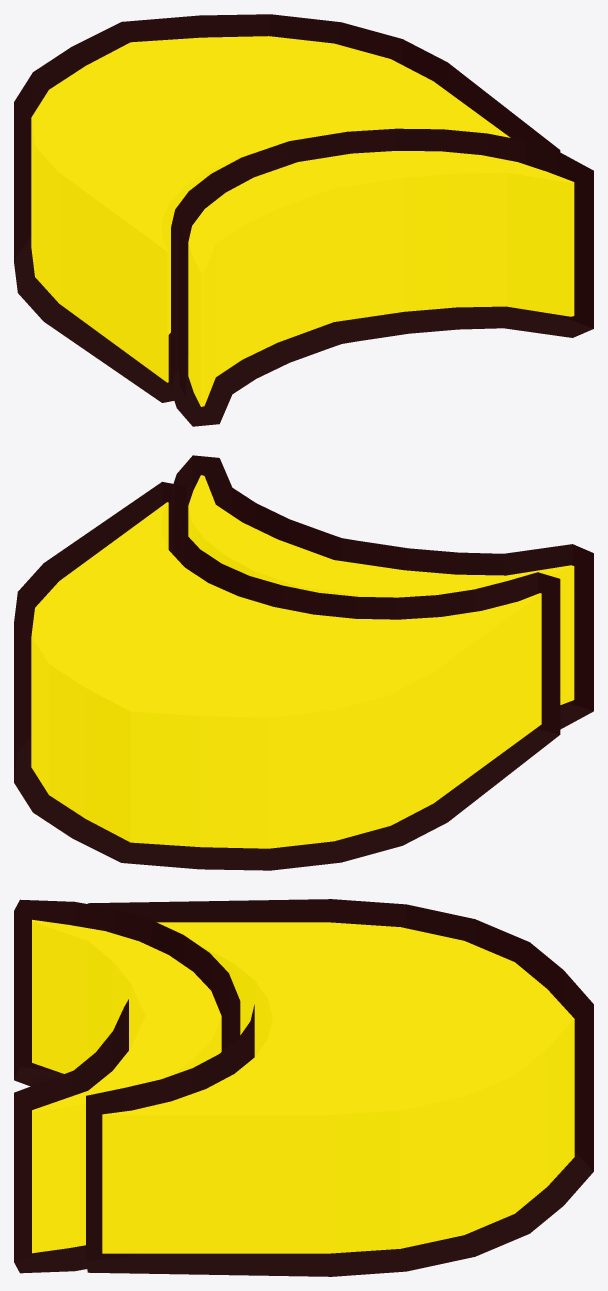
The model's file is XOR.glb.
3 views of the same model, one above another, from view 1: azimuth 30°, elevation 25°; view 2: azimuth 150°, elevation 25°; view 3: azimuth 270°, elevation 25° (orthographic). The views are drawn at different scales.
Visible parts, largest first — view 1: Plane.001, Plane.002; view 2: Plane.001, Plane.002; view 3: Plane.001, Plane.002.
Part boxes in pixels (x1=…): Plane.001: x1=14, y1=14, x2=560, y2=402; Plane.002: x1=171, y1=128, x2=593, y2=426; Plane.001: x1=14, y1=481, x2=560, y2=870; Plane.002: x1=171, y1=455, x2=593, y2=729; Plane.001: x1=86, y1=899, x2=593, y2=1276; Plane.002: x1=14, y1=899, x2=240, y2=1273.
Size of the model in its own units: 2.16 by 0.8489 by 2.54.
